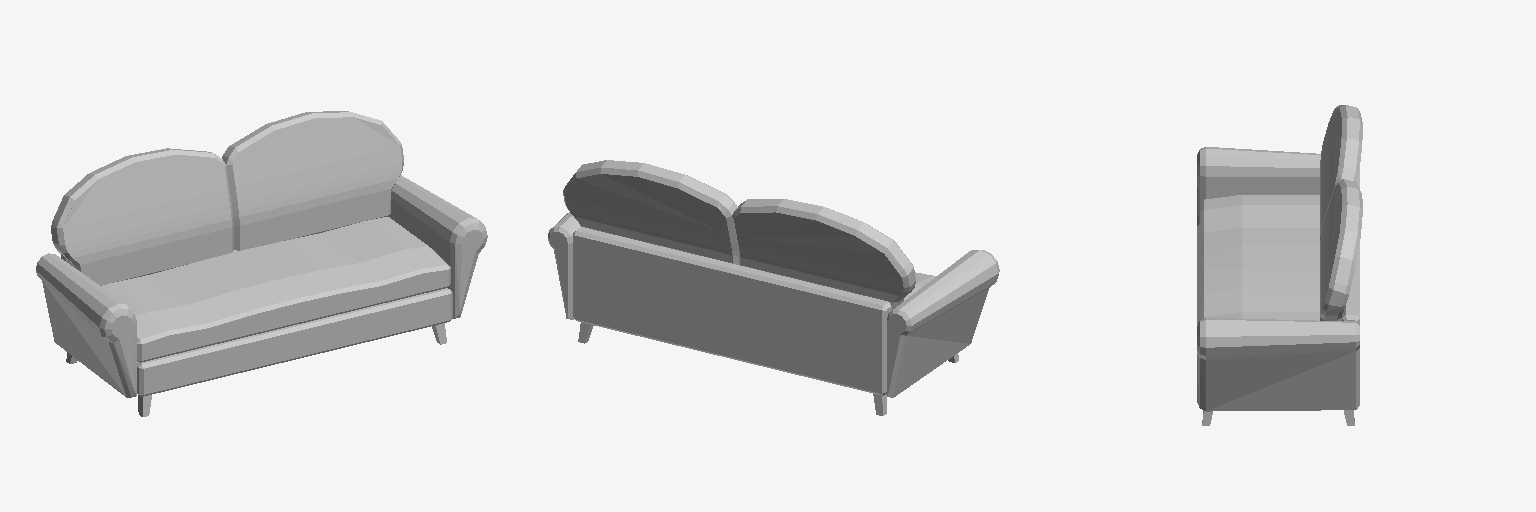
Rendered from sofa_2_2.obj.
3 renders of one model, left to right at view 1: azimuth 30°, elevation 25°; view 2: azimuth 150°, elevation 25°; view 3: azimuth 270°, elevation 25°, orthographic.
Visible parts, largest first — view 1: sofa_2_2; view 2: sofa_2_2; view 3: sofa_2_2.
Boxes of the visible parts, box(x1,y1,x2,y2) form: sofa_2_2: box(36, 111, 487, 416); sofa_2_2: box(548, 160, 999, 415); sofa_2_2: box(1197, 105, 1362, 425).
Size of the model in its own units: 2.47 by 1.17 by 0.9157.